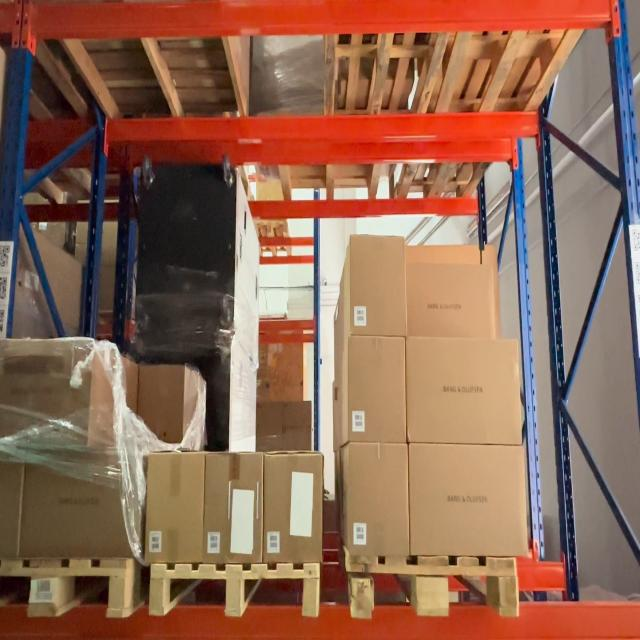box: (408, 443, 526, 556), (22, 449, 141, 559), (407, 339, 520, 443), (349, 444, 407, 559), (148, 454, 204, 564), (205, 456, 263, 562), (265, 454, 322, 560), (350, 339, 404, 444), (352, 236, 404, 332)
